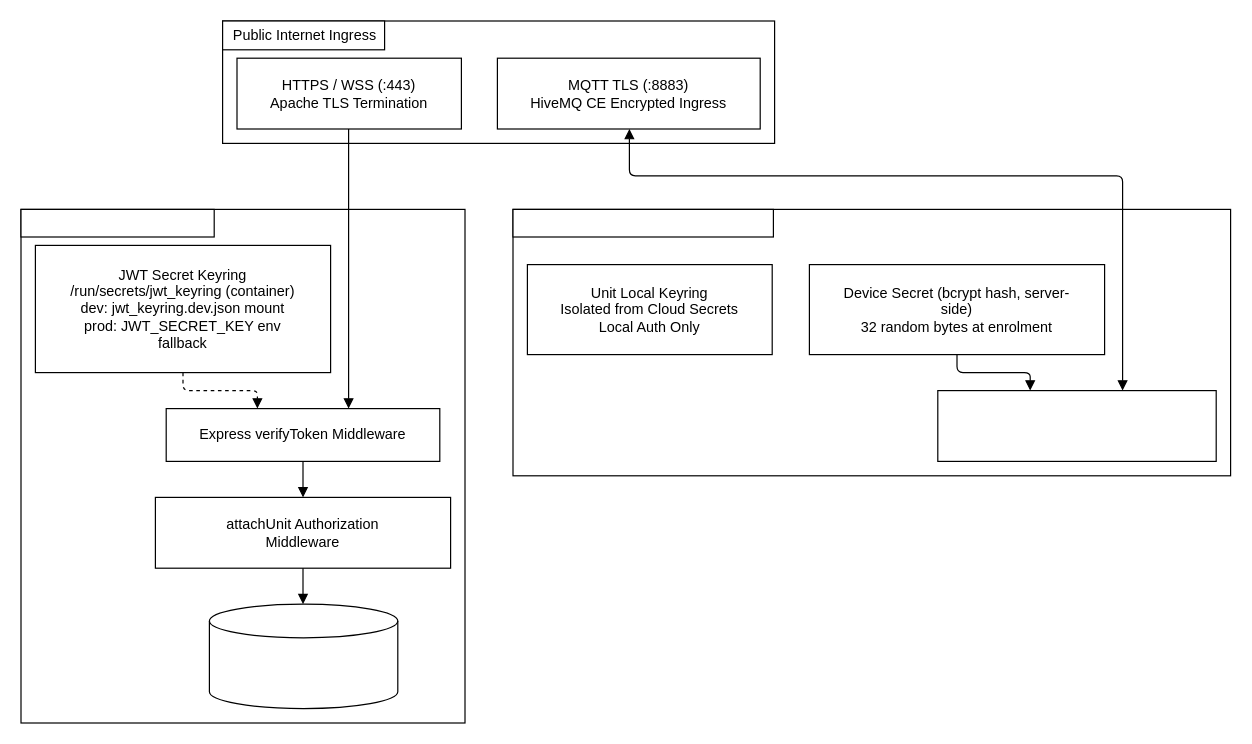
This 1252x744 diagram has some shape labels left out. Each missing label, with the centre of its shape:
Central MySQL DB (:3307) Bcrypt Passwords: [303,656]
Cloud Server Trust Domain: [117,222]
Onboard Token Cache (12h TTL) Certificates/robot/token.cred: [1076,425]
Physical Robot Trust Domain (Jetson): [642,222]
